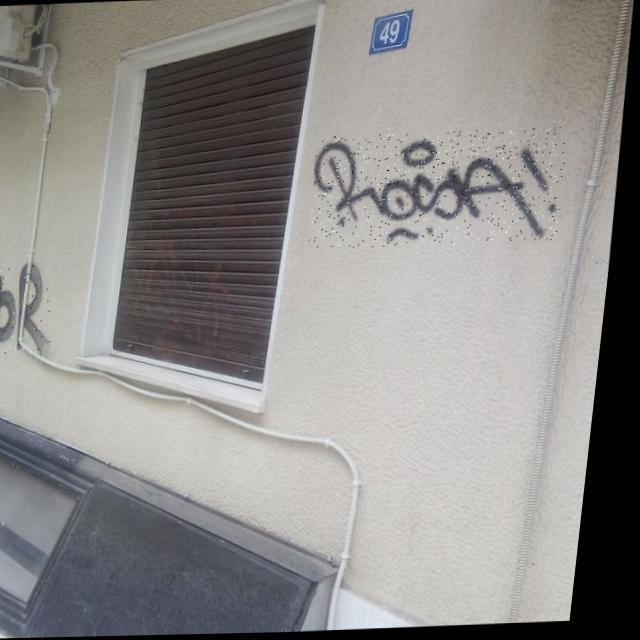-: (310, 130, 572, 250), (0, 258, 67, 357)
